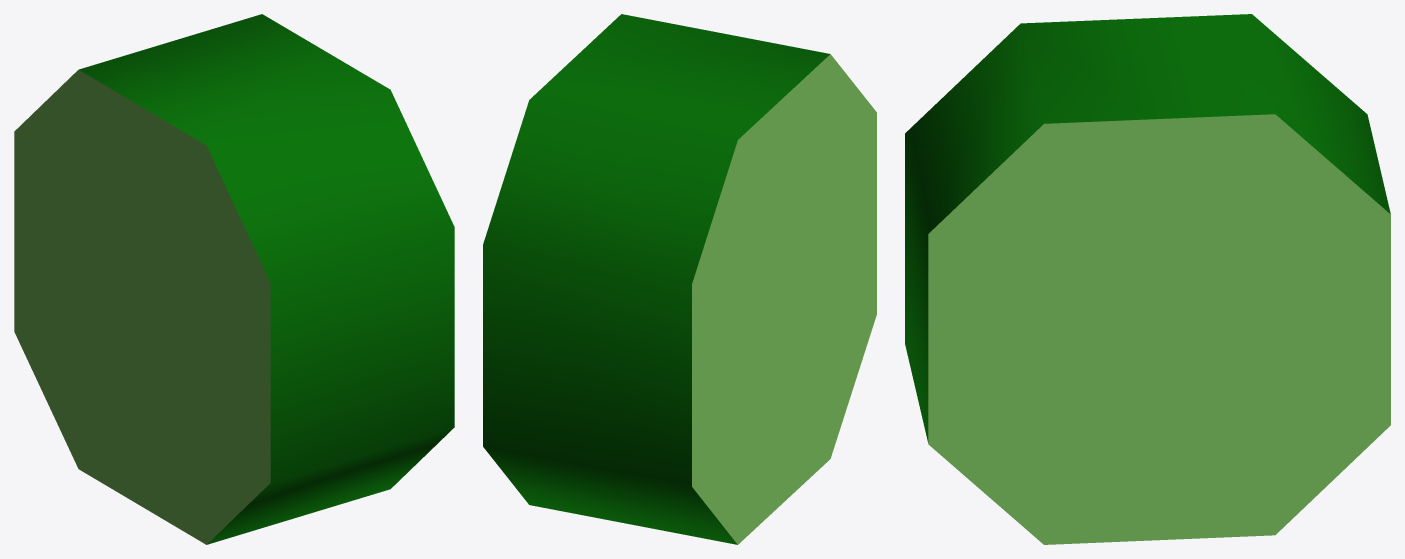
Rendered from mesh_CucumberSlice_Stage07.fbx.
The picture shows the model from 3 angles, left to right: view 1: azimuth 30°, elevation 25°; view 2: azimuth 150°, elevation 25°; view 3: azimuth 270°, elevation 25°; orthographic projection. The views are drawn at different scales.
Parts seen in each view (by area): view 1: mesh_CucumberSlice_Stage07; view 2: mesh_CucumberSlice_Stage07; view 3: mesh_CucumberSlice_Stage07.
Part boxes in pixels (<box>): mesh_CucumberSlice_Stage07: <box>14,14,454,544</box>; mesh_CucumberSlice_Stage07: <box>483,14,876,544</box>; mesh_CucumberSlice_Stage07: <box>905,14,1390,544</box>.
Bounding box in the file's own units: 0.0223 × 0.0367 × 0.0383.
